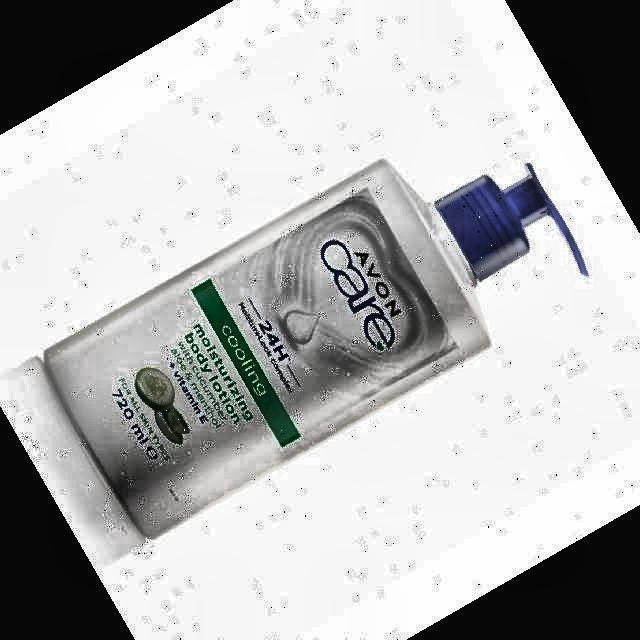plastic: (45, 161, 590, 536)
